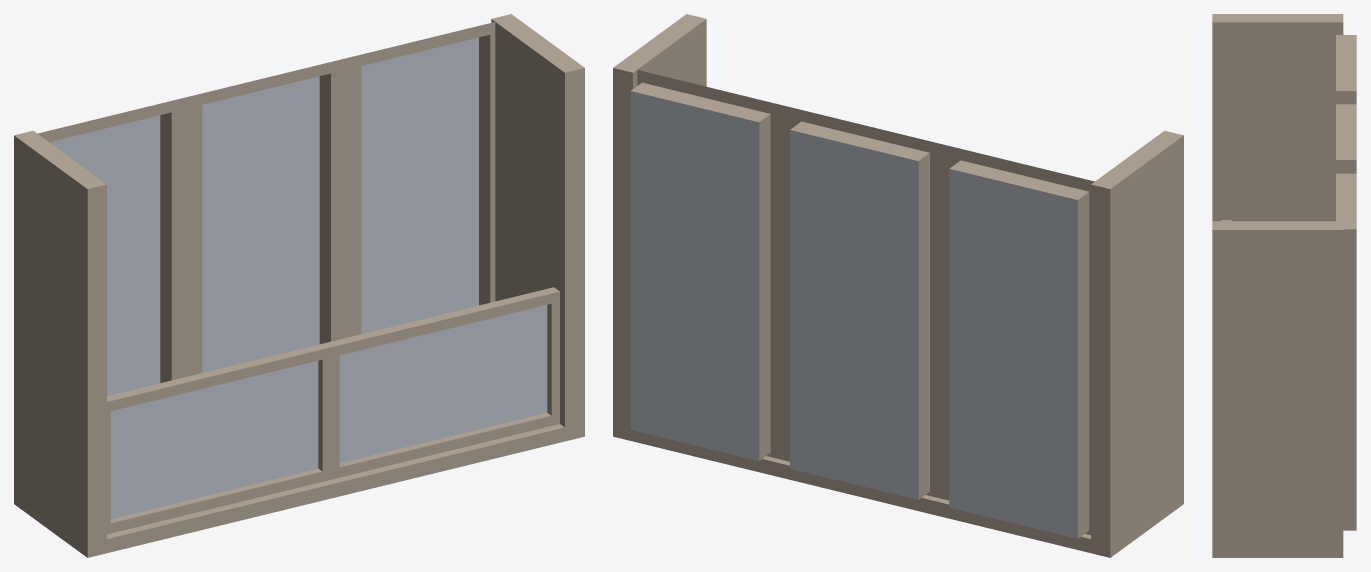
File: fbx_building_1_window3.fbx
3 views of the same model, side by side, from view 1: azimuth 30°, elevation 25°; view 2: azimuth 150°, elevation 25°; view 3: azimuth 270°, elevation 25° (orthographic). The views are drawn at different scales.
Visible parts, largest first — view 1: fbx_building_1_window3; view 2: fbx_building_1_window3; view 3: fbx_building_1_window3.
Boxes of the visible parts, left/top/right/bottom form: fbx_building_1_window3: left=14, top=14, right=584, bottom=557; fbx_building_1_window3: left=613, top=14, right=1183, bottom=557; fbx_building_1_window3: left=1212, top=14, right=1356, bottom=557.
Bounding box in the file's own units: 1.07 × 0.7599 × 0.3027.
2 materials, 1 textured.
